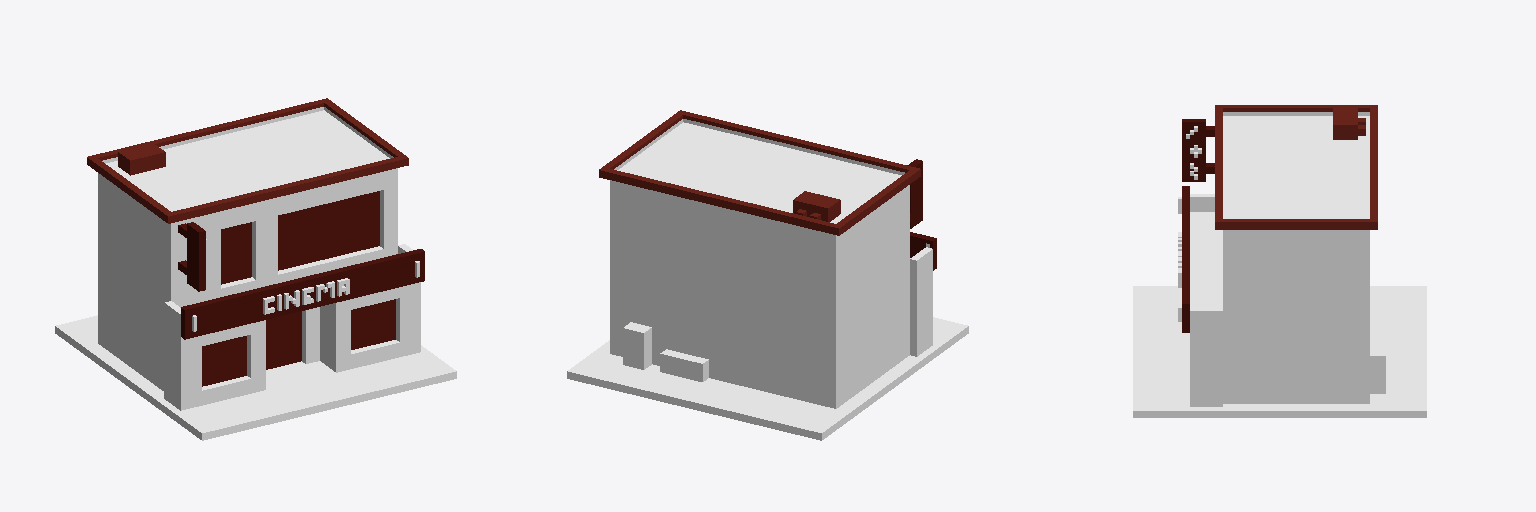
3 renders of one model, left to right at view 1: azimuth 30°, elevation 25°; view 2: azimuth 150°, elevation 25°; view 3: azimuth 270°, elevation 25°, orthographic.
Visible parts, largest first — view 1: 11; view 2: 11; view 3: 11.
Part boxes in pixels (x1,y1,x2,y2): 11: (55,98,456,440); 11: (567,110,968,440); 11: (1133,105,1426,417).
Bounding box in the file's own units: 72 × 54 × 72.
1 materials, 1 textured.